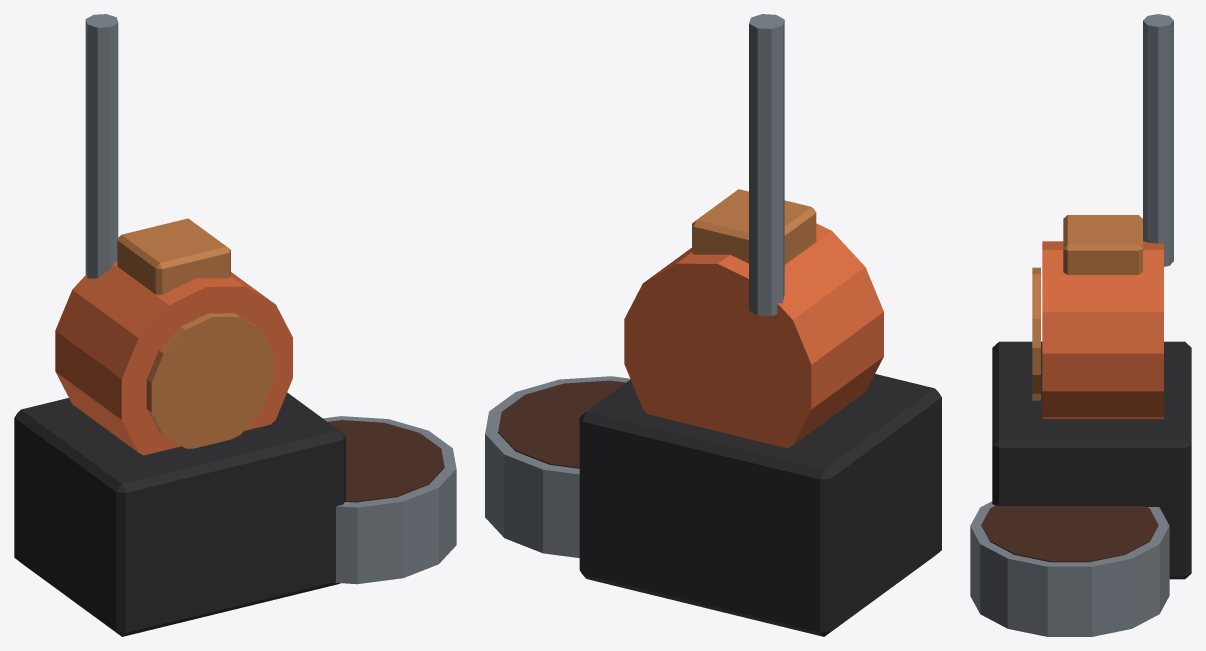
Rendered from roaster.fbx.
3 views of the same model, side by side, from view 1: azimuth 30°, elevation 25°; view 2: azimuth 150°, elevation 25°; view 3: azimuth 270°, elevation 25° (orthographic). The views are drawn at different scales.
Visible parts, largest first — view 1: roaster; view 2: roaster; view 3: roaster.
Boxes of the visible parts, x1,y1,x2,y2 form: roaster: (14,14,456,636); roaster: (485,14,941,636); roaster: (970,14,1191,636).
Bounding box in the file's own units: 1.74 × 2.45 × 1.
